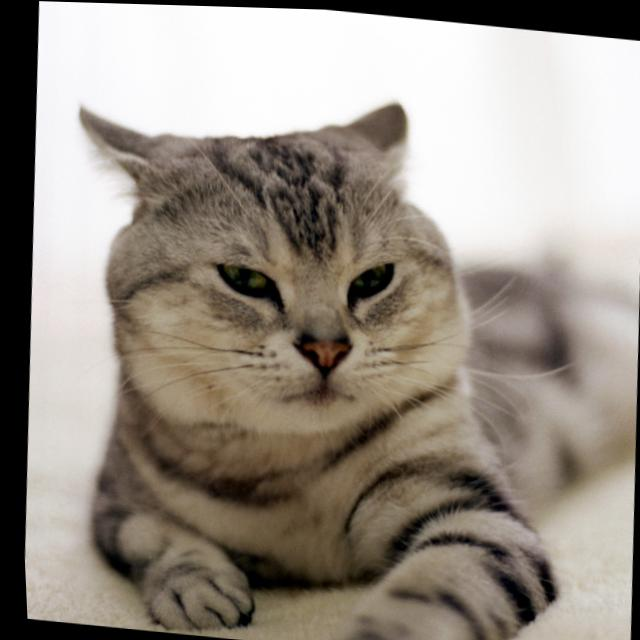animals: (63, 70, 407, 371)
